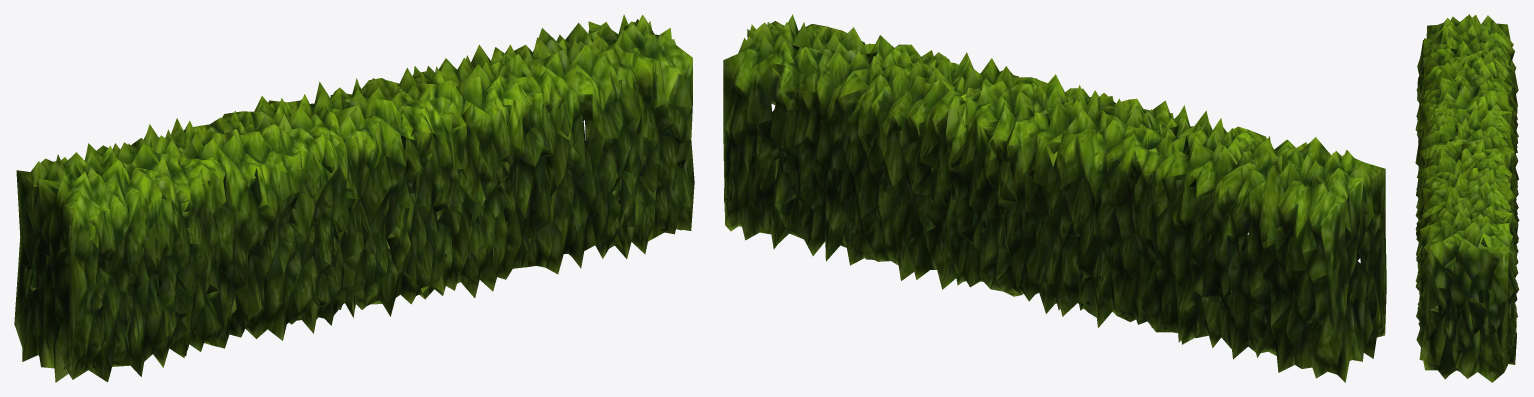
File: hedge-1.glb
The picture shows the model from 3 angles, left to right: view 1: azimuth 30°, elevation 25°; view 2: azimuth 150°, elevation 25°; view 3: azimuth 270°, elevation 25°; orthographic projection. The views are drawn at different scales.
Parts seen in each view (by area): view 1: terrain-hedge-1; view 2: terrain-hedge-1; view 3: terrain-hedge-1.
Part boxes in pixels (left/top/right/bottom): terrain-hedge-1: left=14, top=14, right=694, bottom=382; terrain-hedge-1: left=723, top=14, right=1386, bottom=382; terrain-hedge-1: left=1415, top=14, right=1519, bottom=382.
Size of the model in its own units: 0.9521 by 0.3044 by 0.1853.
1 material, 1 textured.
